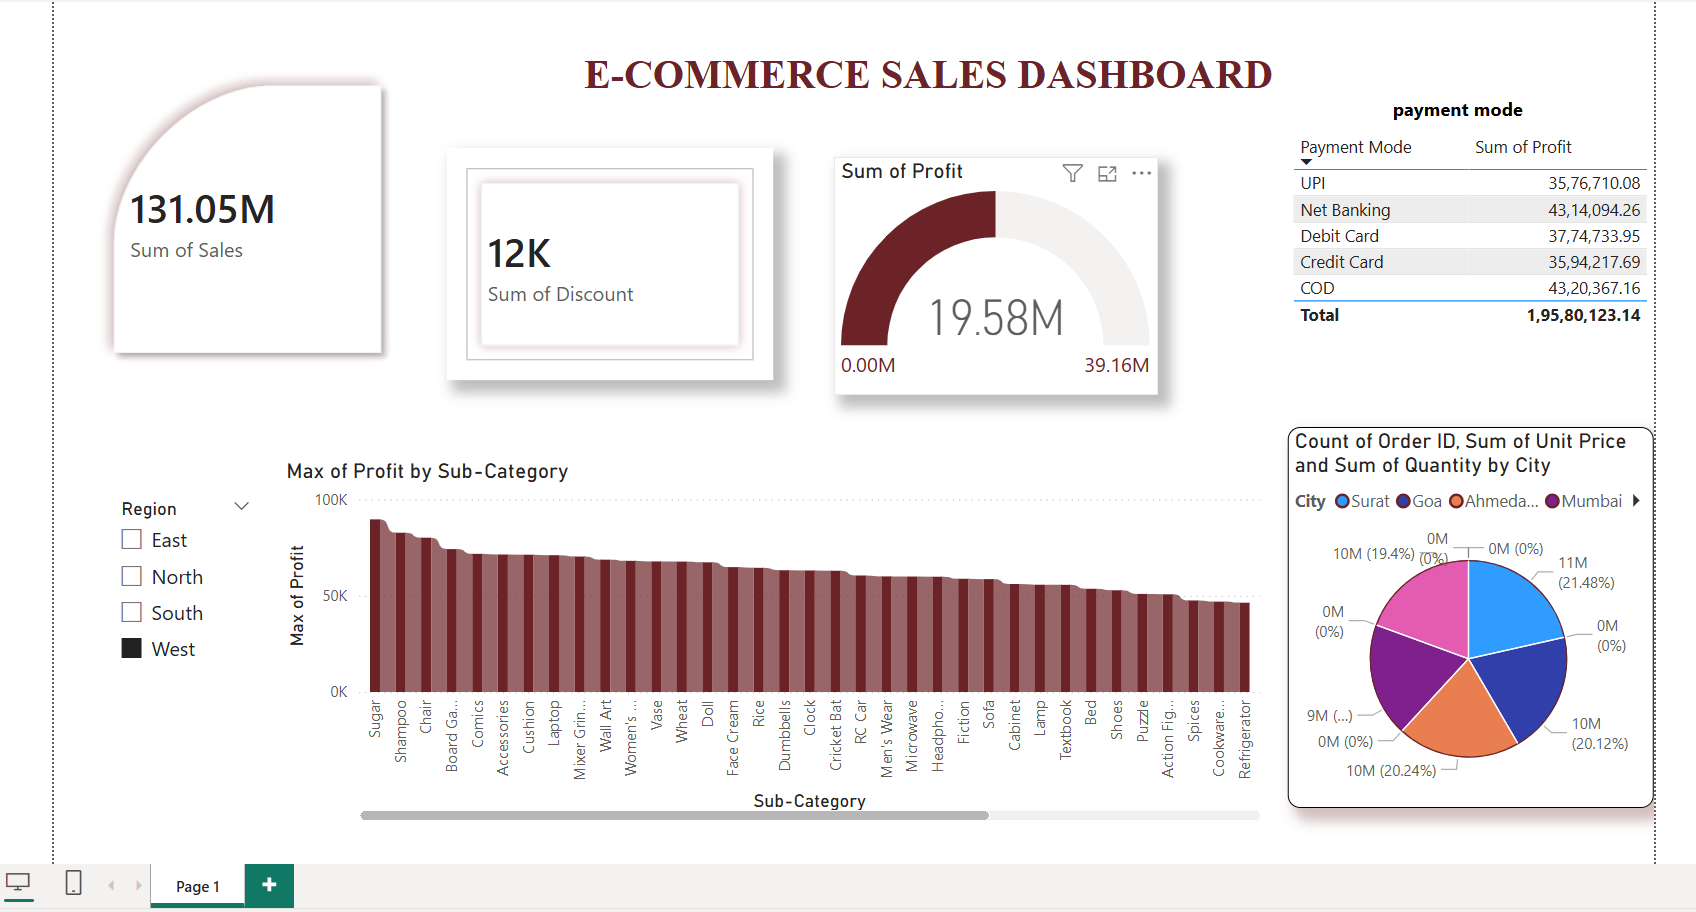

The page's visual inventory and layout, read from the dashboard file:
{"tool":"powerbi","page":{"name":"Page 1","canvas":[1280,720],"ordinal":0},"visuals":[{"type":"cardVisual","fields":{"Data":["Sum(Ecommerce_Sales_Data_2024_2025.Sales)"]},"box":[15.1,38.4,279.9,279.9],"z":0},{"type":"textbox","box":[15,328,280,280],"z":1000},{"type":"textbox","box":[305,38,280,280],"z":2000},{"type":"textbox","box":[305,328,280,280],"z":3000},{"type":"textbox","box":[418.6,38.4,610.5,53.5],"z":4000},{"type":"slicer","fields":{"Values":["Ecommerce_Sales_Data_2024_2025.Region"]},"box":[41,396.4,128.3,168.2],"z":5000},{"type":"ribbonChart","fields":{"Y":["Max(Ecommerce_Sales_Data_2024_2025.Profit)"],"Category":["Ecommerce_Sales_Data_2024_2025.Sub-Category"]},"box":[181.4,368.6,788.4,295.3],"z":6000},{"type":"cardVisual","fields":{"Data":["Sum(Ecommerce_Sales_Data_2024_2025.Discount)"]},"box":[314,120.9,261.6,186],"z":7000},{"type":"pieChart","fields":{"Category":["Ecommerce_Sales_Data_2024_2025.City"],"Y":["CountNonNull(Ecommerce_Sales_Data_2024_2025.Order ID)","Sum(Ecommerce_Sales_Data_2024_2025.Unit Price)","Sum(Ecommerce_Sales_Data_2024_2025.Quantity)"]},"box":[987.2,344.2,293,304.7],"z":8000},{"type":"tableEx","fields":{"Values":["Ecommerce_Sales_Data_2024_2025.Payment Mode","Sum(Ecommerce_Sales_Data_2024_2025.Profit)"]},"box":[986.2,105.1,293.3,213.4],"z":9000},{"type":"textbox","box":[1066.3,74.4,130.2,36],"z":10000},{"type":"gauge","fields":{"Y":["Sum(Ecommerce_Sales_Data_2024_2025.Profit)"]},"box":[624.4,127.9,258.1,190.7],"z":11000}]}

Visuals, with their boxes on the page's 1280x720 design canvas (x1, y1, x2, y2). These are canvas units, not pixel positions in the 1696x912 screenshot, which may show the page scaled, cropped or inside an application window:
cardVisual - Sum(Ecommerce_Sales_Data_2024_2025.Sales): <bbox>15, 38, 295, 318</bbox>
textbox: <bbox>15, 328, 295, 608</bbox>
textbox: <bbox>305, 38, 585, 318</bbox>
textbox: <bbox>305, 328, 585, 608</bbox>
textbox: <bbox>419, 38, 1029, 92</bbox>
slicer - Ecommerce_Sales_Data_2024_2025.Region: <bbox>41, 396, 169, 565</bbox>
ribbonChart - Max(Ecommerce_Sales_Data_2024_2025.Profit) x Ecommerce_Sales_Data_2024_2025.Sub-Category: <bbox>181, 369, 970, 664</bbox>
cardVisual - Sum(Ecommerce_Sales_Data_2024_2025.Discount): <bbox>314, 121, 576, 307</bbox>
pieChart - Ecommerce_Sales_Data_2024_2025.City x CountNonNull(Ecommerce_Sales_Data_2024_2025.Order ID): <bbox>987, 344, 1280, 649</bbox>
tableEx - Ecommerce_Sales_Data_2024_2025.Payment Mode x Sum(Ecommerce_Sales_Data_2024_2025.Profit): <bbox>986, 105, 1280, 318</bbox>
textbox: <bbox>1066, 74, 1196, 110</bbox>
gauge - Sum(Ecommerce_Sales_Data_2024_2025.Profit): <bbox>624, 128, 882, 319</bbox>
